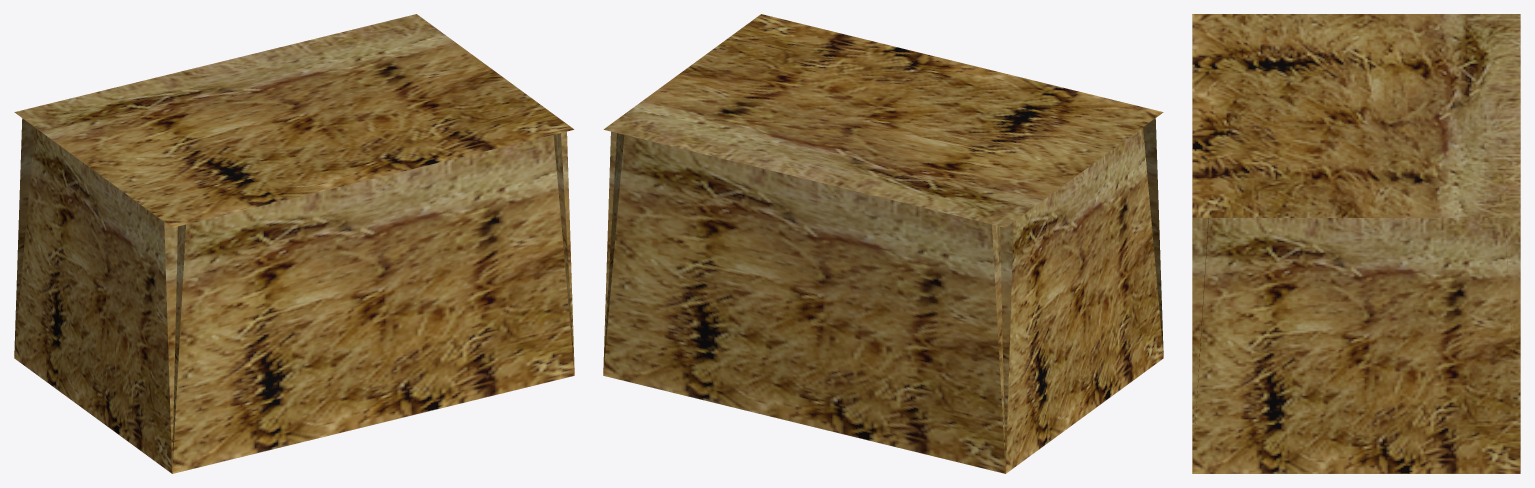
Rendered from ricestraw_lod1.glb.
3 renders of one model, left to right at view 1: azimuth 30°, elevation 25°; view 2: azimuth 150°, elevation 25°; view 3: azimuth 270°, elevation 25°, orthographic. The views are drawn at different scales.
Parts seen in each view (by area): view 1: ricestraw_lod1; view 2: ricestraw_lod1; view 3: ricestraw_lod1.
Boxes of the visible parts, x1=… form: ricestraw_lod1: x1=14, y1=14, x2=574, y2=473; ricestraw_lod1: x1=603, y1=14, x2=1163, y2=473; ricestraw_lod1: x1=1192, y1=14, x2=1520, y2=473.
Size of the model in its own units: 2.55 by 1.49 by 1.73.
Materials: 1 (1 with a texture image).
